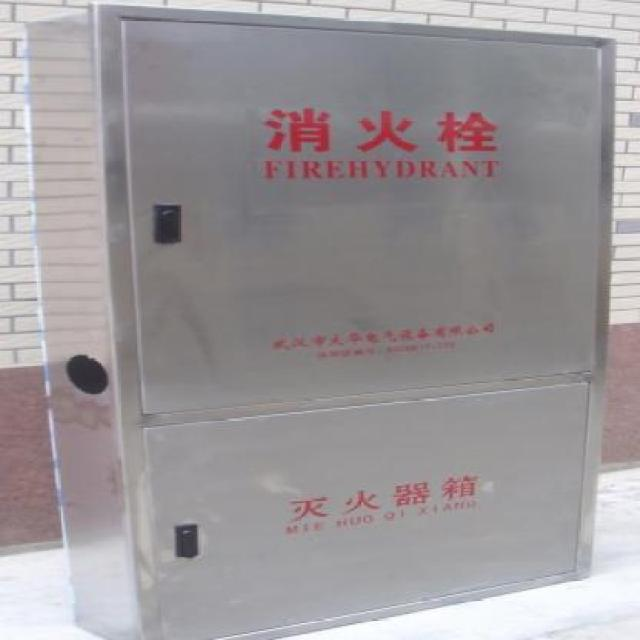firehydrant: (16, 0, 624, 640)
